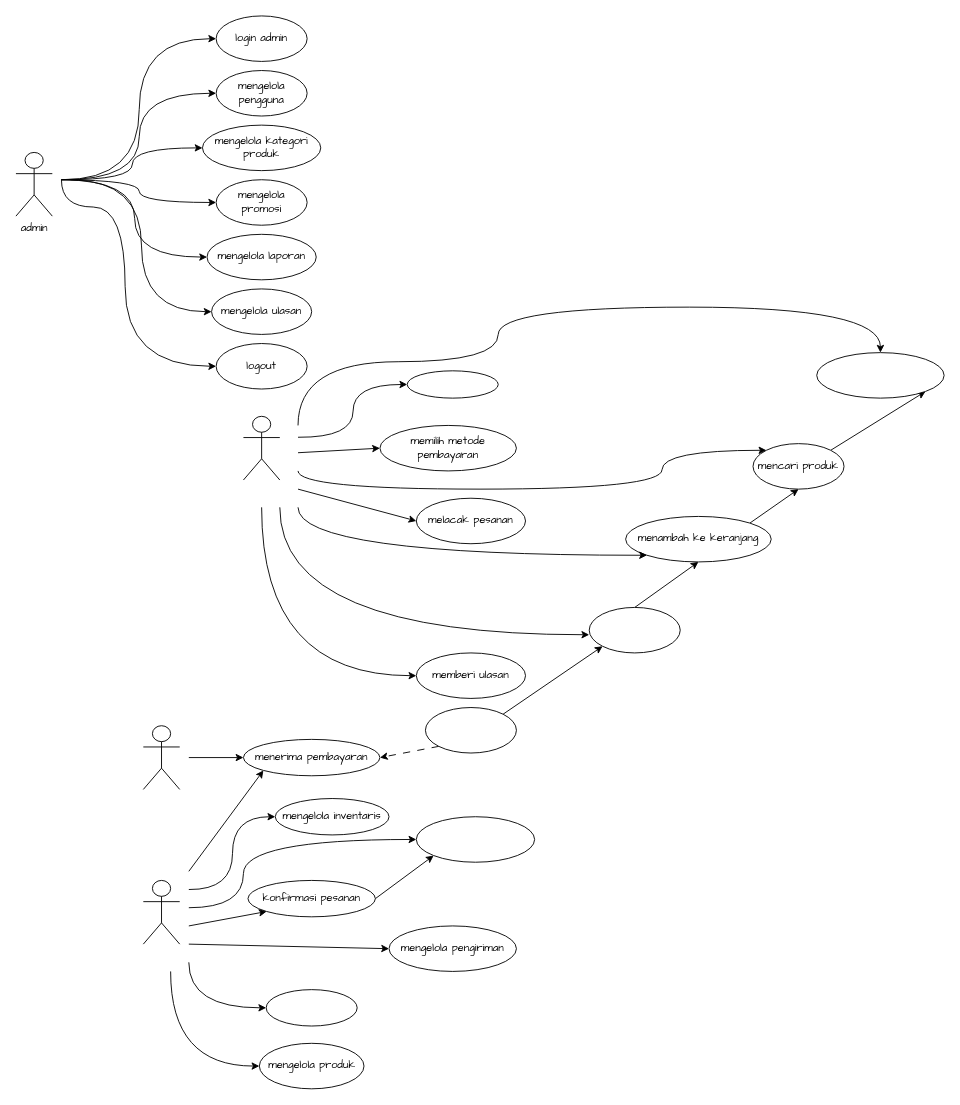
The diagram is 960 pixels wide and 1105 high, and some of its shapes have lost their labels. Here are the shapes that lost their labels. From the top down, the box of each, then its label:
(406, 370, 498, 398): login
(816, 352, 944, 398): melihat rekomendasi produk
(243, 415, 280, 480): pembeli
(588, 607, 680, 653): ceckout
(425, 707, 516, 753): membayar
(142, 725, 180, 789): sistem pembayaran
(415, 816, 535, 862): menerima pesanan
(142, 880, 180, 944): penjual
(265, 989, 357, 1026): login penjual
